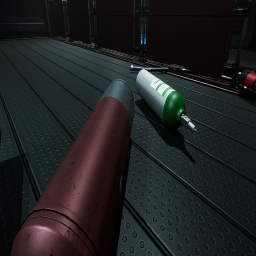0: (136, 69, 197, 132), (237, 68, 256, 76)
FireExtinguisher ]: (238, 70, 256, 99)
NitrogenTank ,: (10, 78, 134, 256), (0, 127, 1, 147)
